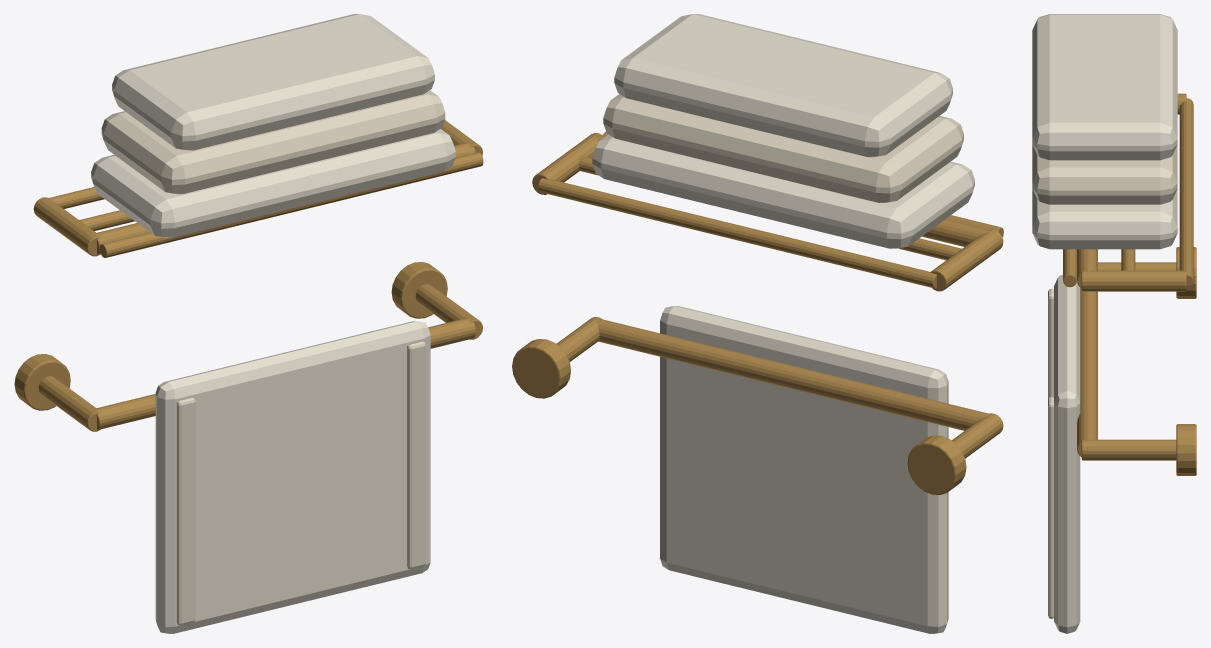
The model's file is bath_towel_rack.glb.
The picture shows the model from 3 angles, left to right: view 1: azimuth 30°, elevation 25°; view 2: azimuth 150°, elevation 25°; view 3: azimuth 270°, elevation 25°; orthographic projection. The views are drawn at different scales.
Parts seen in each view (by area): view 1: bath_towel_rack; view 2: bath_towel_rack; view 3: bath_towel_rack.
Part boxes in pixels (x1,y1,x2,y2): bath_towel_rack: (14,14,483,633); bath_towel_rack: (512,14,1003,633); bath_towel_rack: (1032,14,1196,633).
Bounding box in the file's own units: 0.81 × 0.96 × 0.2825.
